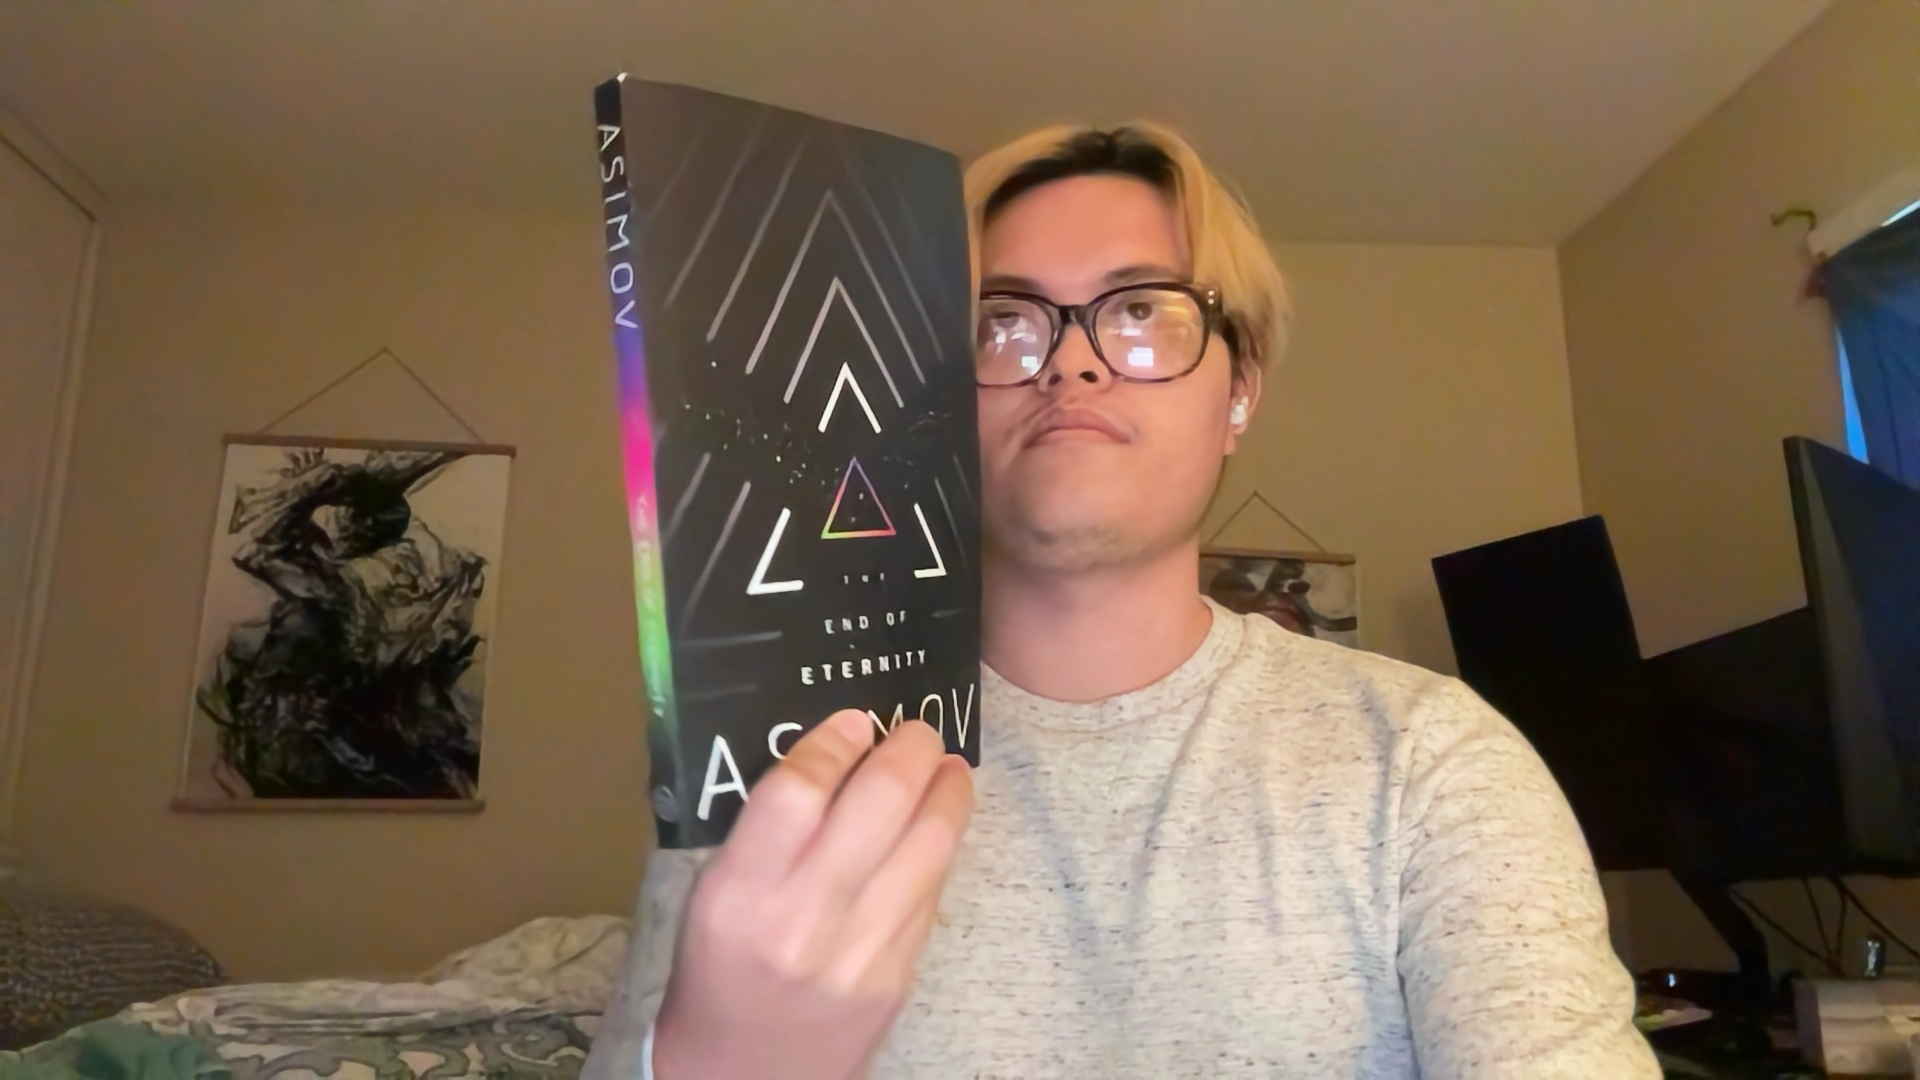book: (589, 61, 997, 823)
